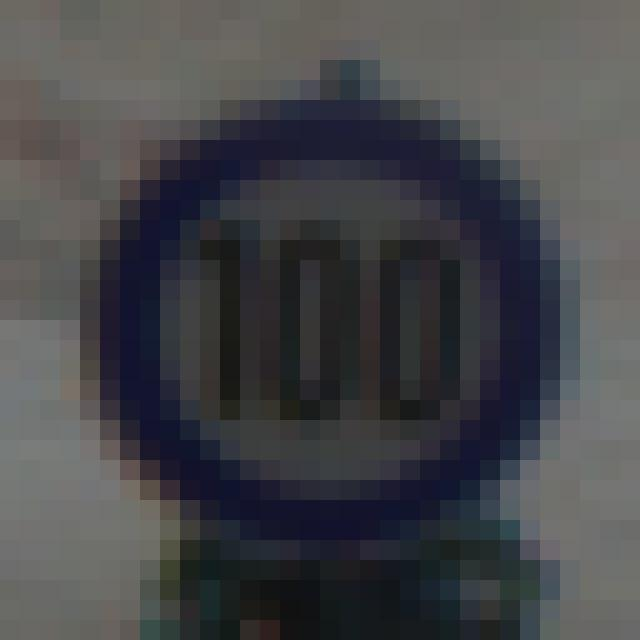SPEED LIMIT 100: (94, 104, 572, 534)
